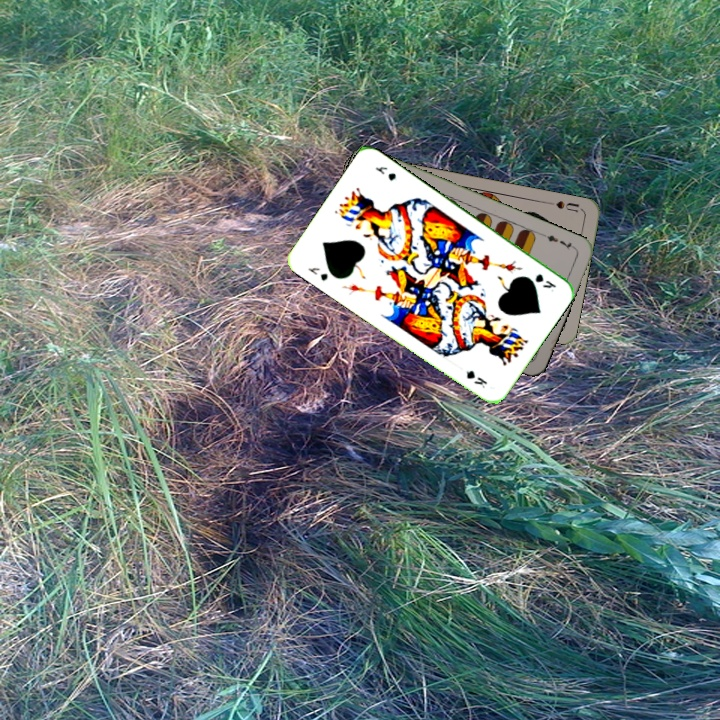E7: (539, 230, 578, 252)
GK: (531, 269, 558, 294), (304, 263, 331, 284)
SU: (544, 197, 585, 215)
